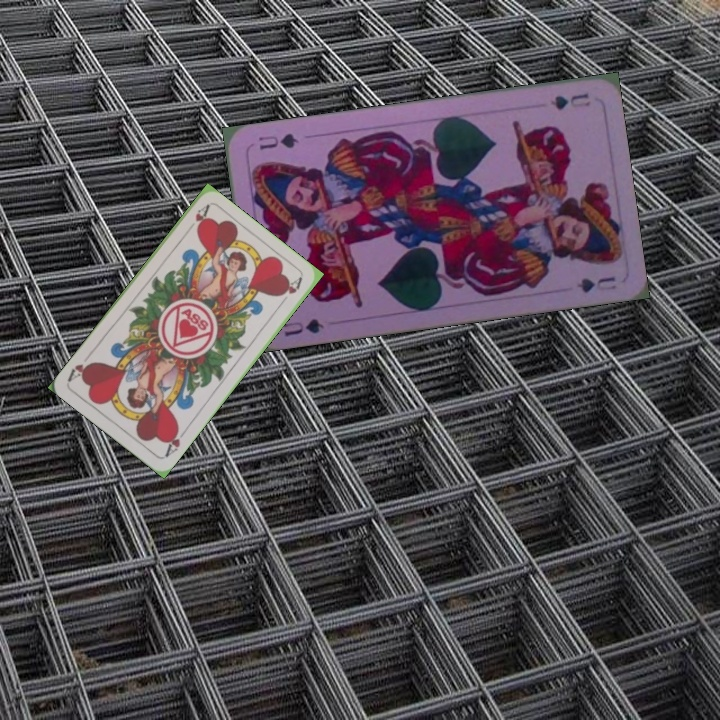GU: (278, 314, 327, 340), (546, 89, 593, 113)
HA: (160, 423, 190, 460), (191, 201, 212, 233)
